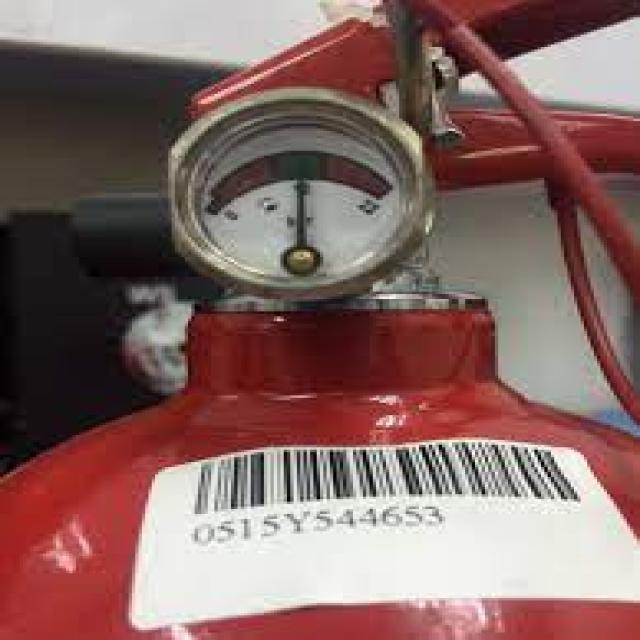pressure gauge: (169, 89, 432, 299)
